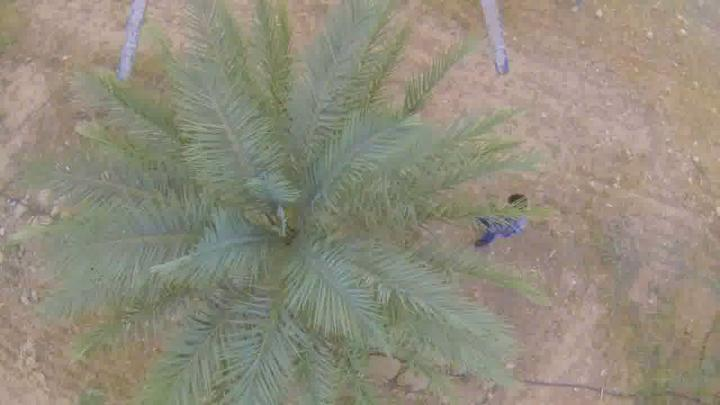Date-Palm-Crown: (136, 108, 422, 346)
